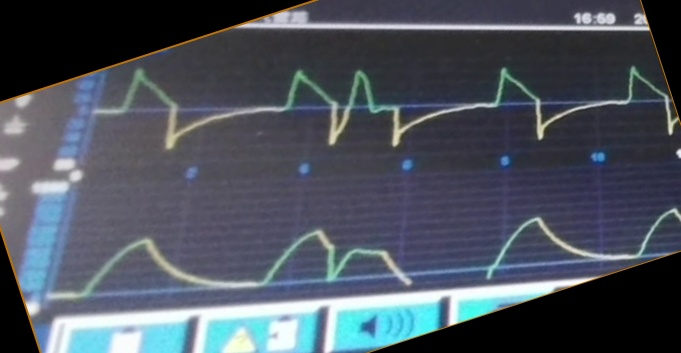Double_Triggering Flow: (133, 61, 658, 152)
Double_Triggering Volume: (88, 203, 679, 291)
